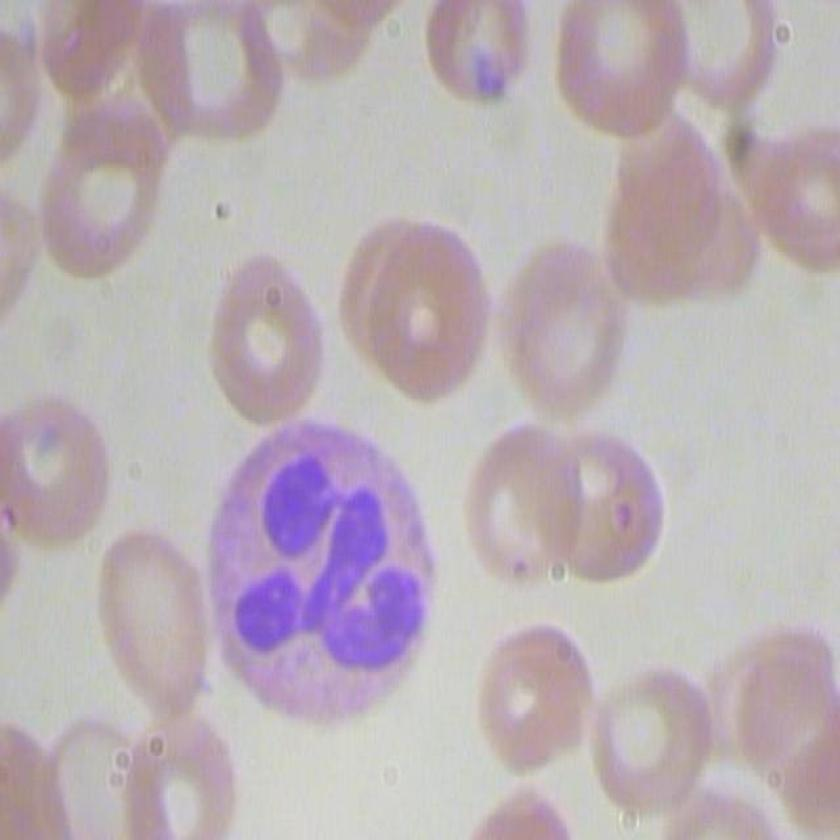neutrophil: (184, 404, 462, 757)
